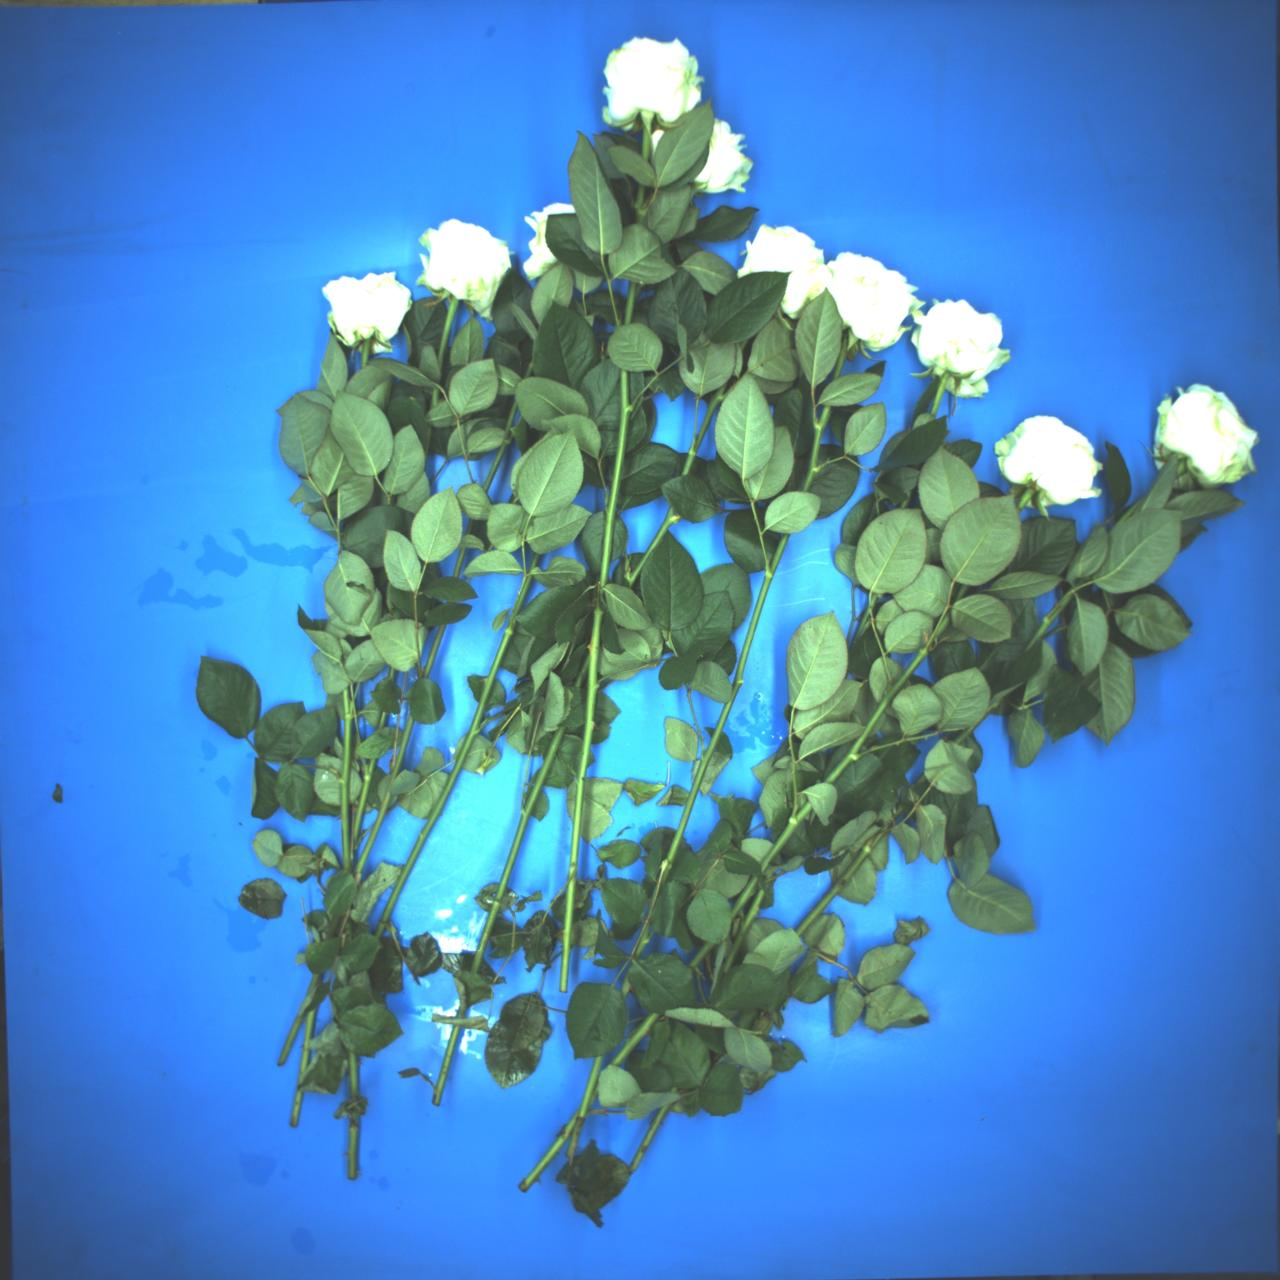Stem: (625, 531, 796, 961), (368, 574, 544, 941), (552, 372, 635, 992), (467, 722, 565, 974), (824, 602, 955, 790), (792, 821, 896, 938), (352, 713, 417, 885), (720, 866, 777, 974), (615, 505, 683, 588), (517, 1110, 585, 1193), (680, 379, 728, 477), (755, 799, 815, 873), (277, 972, 321, 1067), (565, 1054, 604, 1160), (482, 396, 520, 496), (1021, 588, 1076, 654), (627, 1099, 672, 1173), (346, 757, 377, 856), (798, 404, 832, 492), (611, 1009, 660, 1069), (431, 1023, 461, 1107), (340, 689, 353, 870), (953, 702, 998, 747), (433, 299, 459, 370), (297, 1005, 318, 1085), (726, 876, 761, 920), (348, 1054, 360, 1178), (422, 622, 448, 679), (850, 593, 878, 645), (829, 328, 852, 383), (572, 652, 597, 689), (930, 375, 949, 416), (688, 940, 715, 969), (288, 1091, 302, 1129), (1015, 486, 1035, 511), (624, 284, 635, 325), (641, 118, 651, 162), (899, 488, 914, 511), (342, 917, 355, 944), (454, 549, 465, 578), (360, 340, 370, 370), (636, 185, 645, 223), (618, 979, 633, 998), (954, 584, 968, 602), (529, 553, 540, 574), (891, 804, 905, 821), (524, 361, 536, 380), (377, 712, 388, 730), (430, 388, 438, 409), (388, 668, 396, 679)
flower: (982, 396, 1118, 527), (897, 278, 1029, 410), (808, 230, 934, 360), (727, 209, 844, 324), (402, 206, 520, 320), (1149, 379, 1264, 492), (601, 36, 703, 132), (322, 270, 415, 345), (505, 191, 577, 286), (692, 116, 761, 204), (646, 128, 667, 157)
